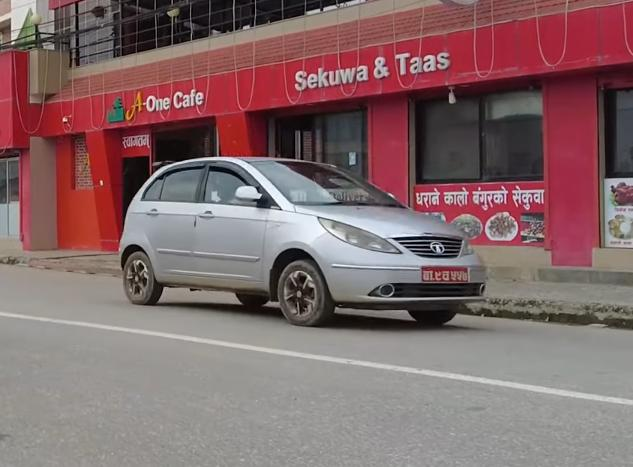car: (114, 138, 493, 329)
